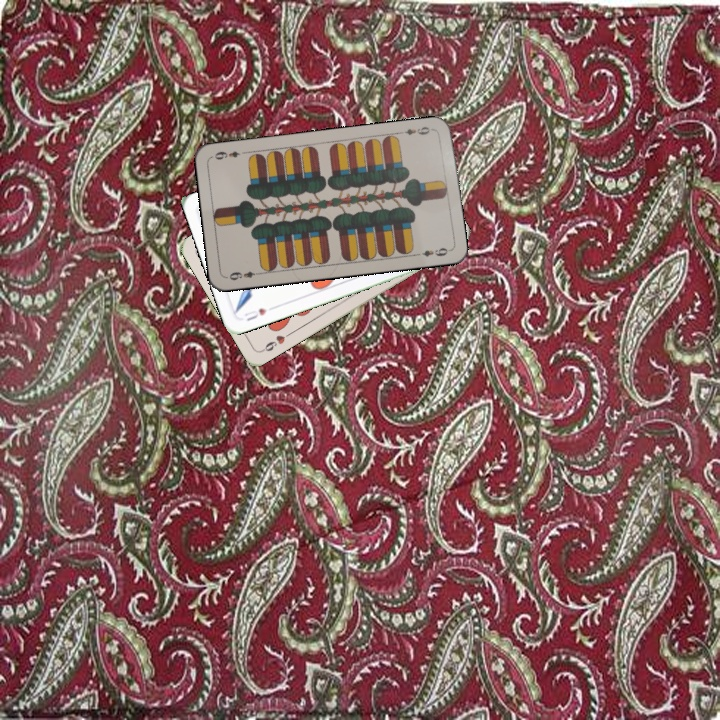E9: (225, 267, 264, 283), (396, 123, 437, 137)
H9: (257, 328, 294, 355)
HU: (240, 304, 269, 324)
